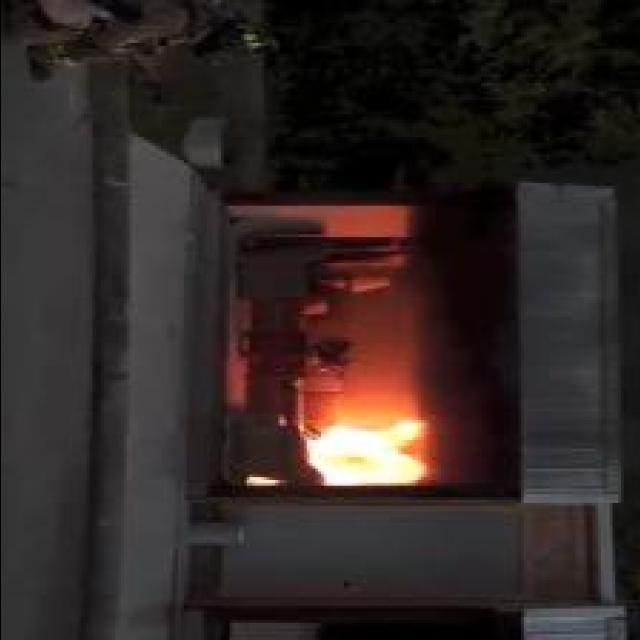Fire: (304, 416, 422, 484)
